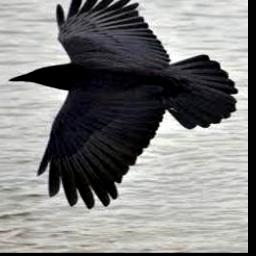Crow: (10, 0, 238, 208)
